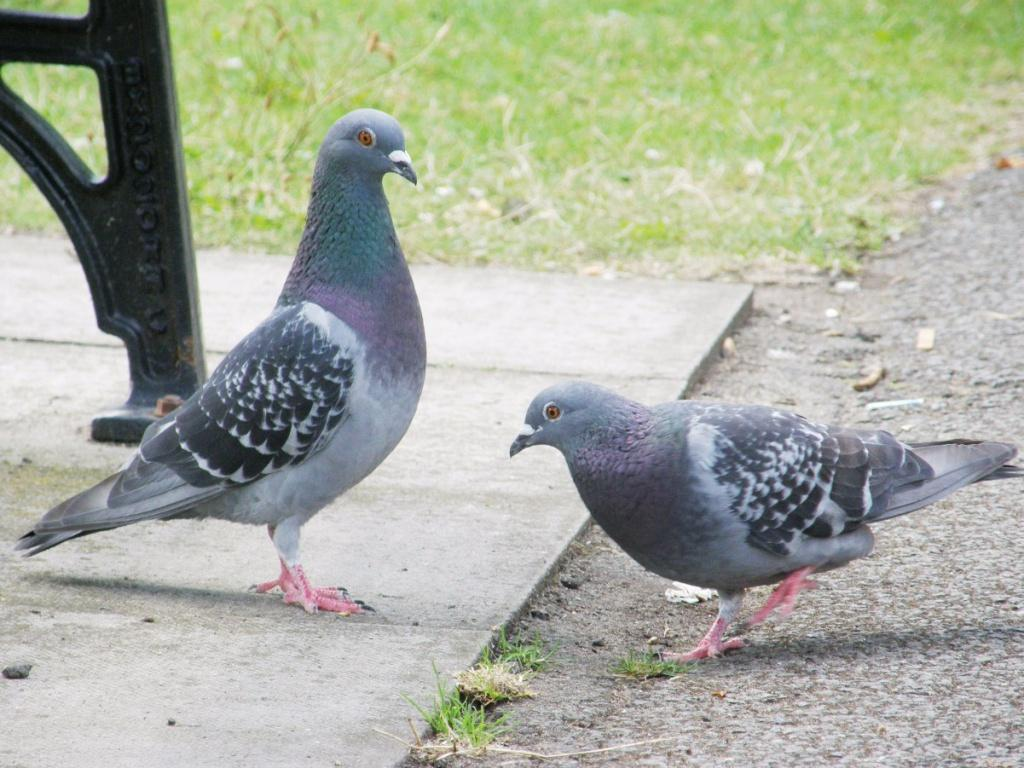Flying Rat: (54, 112, 418, 649), (502, 361, 1023, 644)
